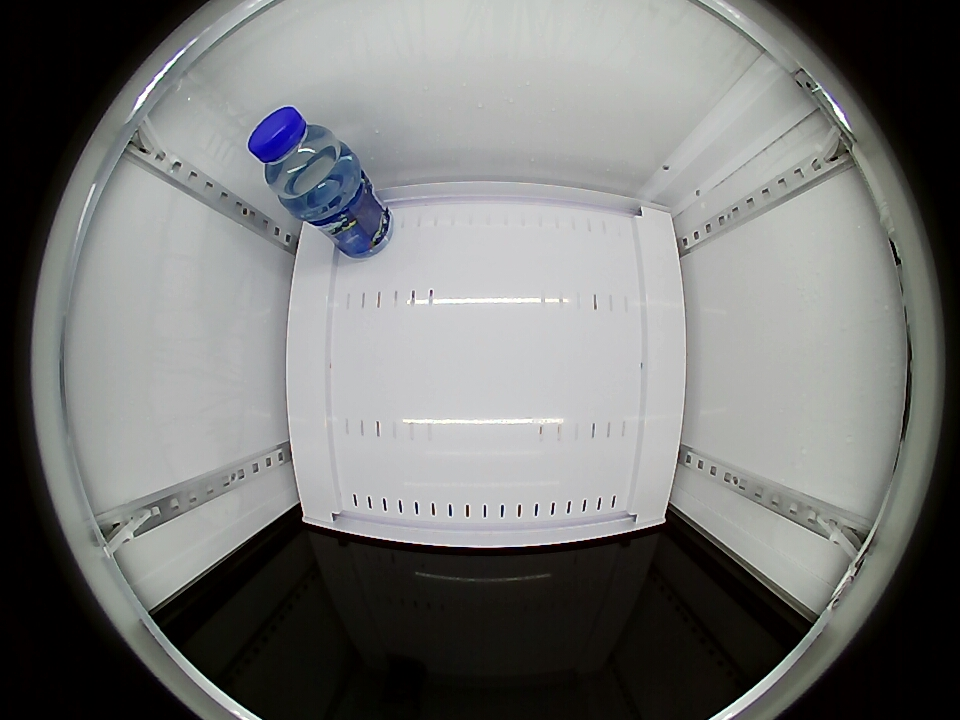maidong: (248, 106, 348, 205)
